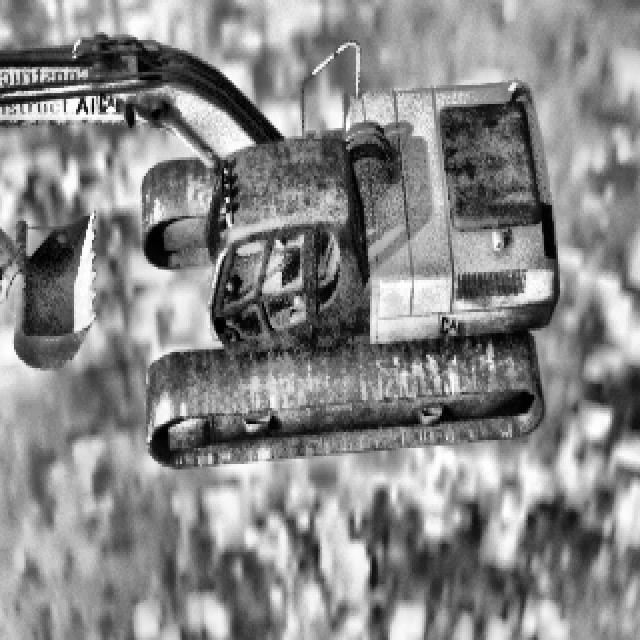excavator: (0, 32, 558, 467)
